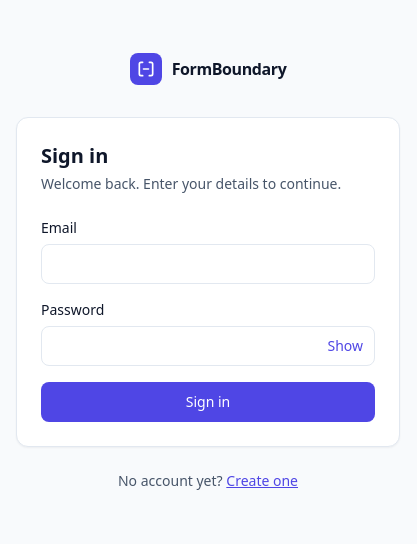
Test: login page › shows a rate-limit message on 429
Type "raja@example.com" into the field labelled "Email" at (208, 264), box [41,244,375,284]
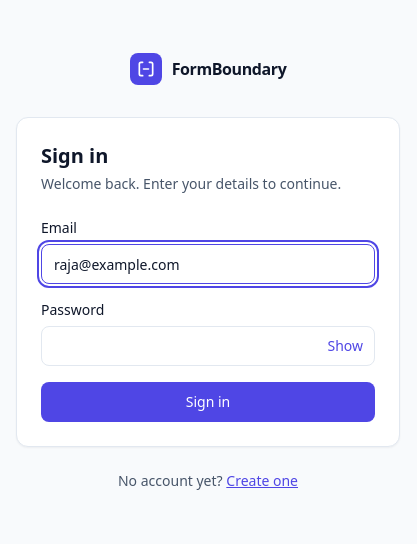
Type "whatever-password" into the password field labelled "Password" at (208, 346), box [41,326,375,366]
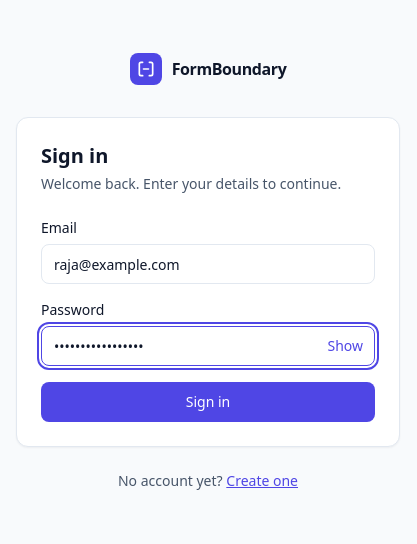
Click the button "Sign in" at (208, 402), box [41,382,375,422]
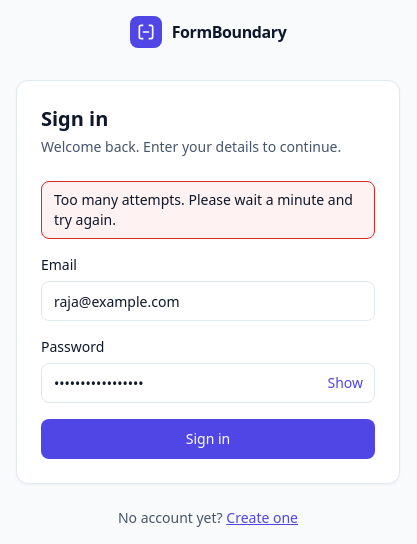
expect the text "Too many attempts. Please wait a minute and try again." is shown: met, box [41,181,375,239]
